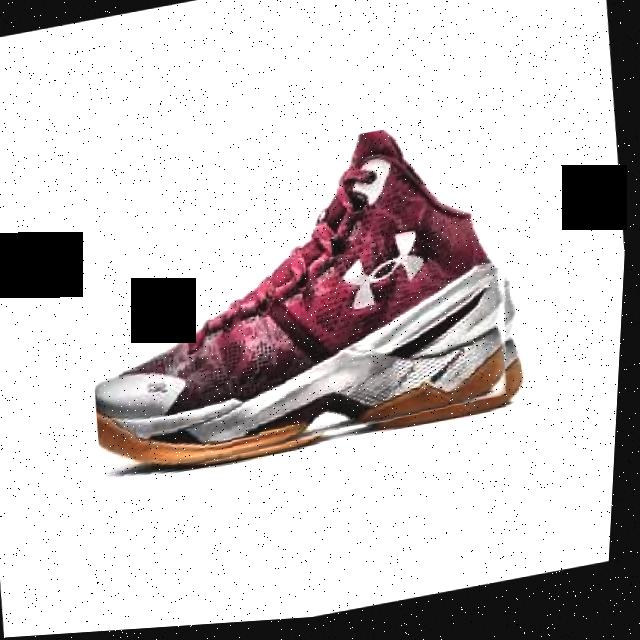shoe: (69, 112, 542, 489)
